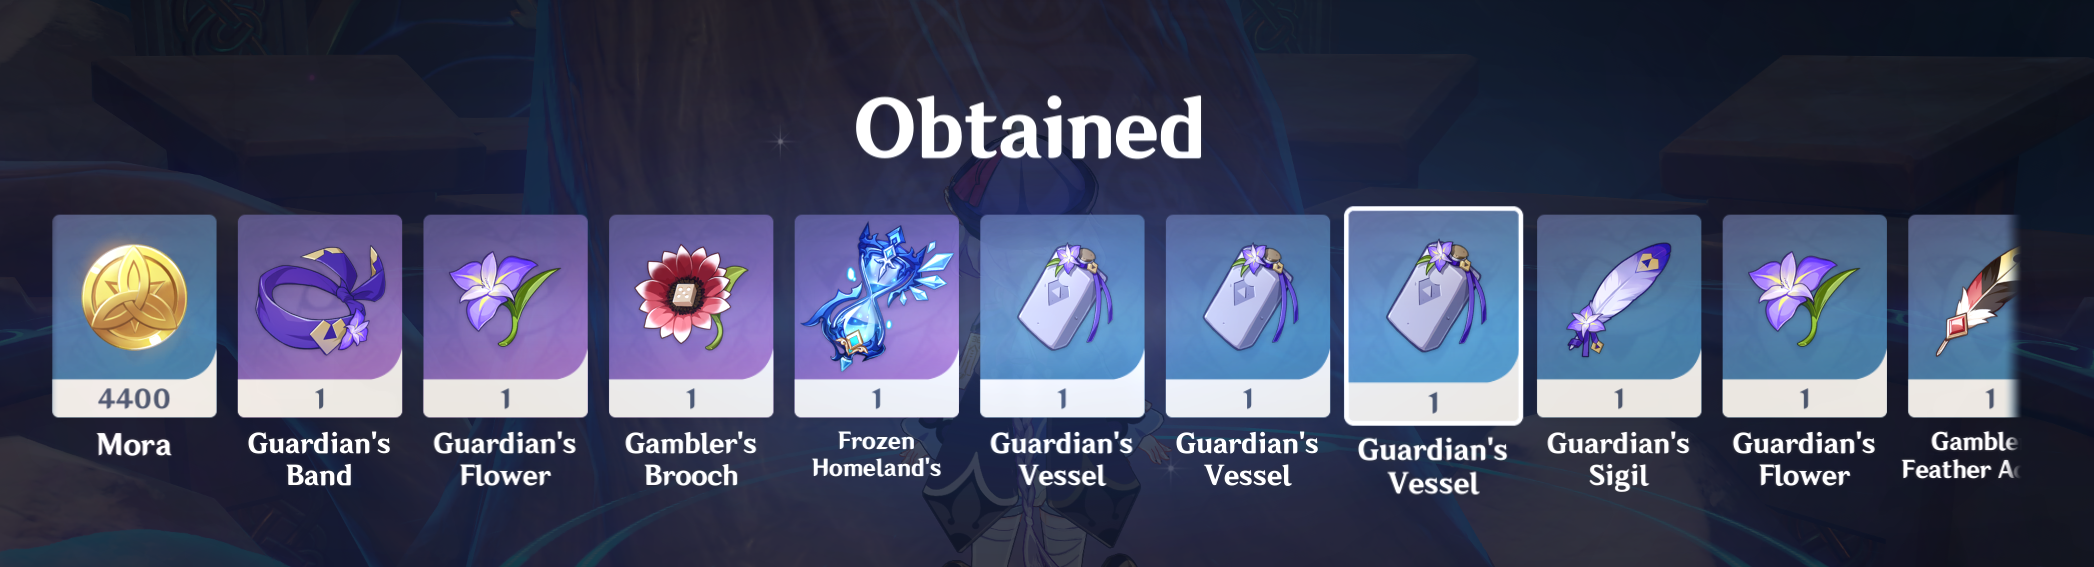3 star artifact: (1341, 199, 1529, 431), (1159, 207, 1345, 430), (971, 203, 1155, 427), (1529, 209, 1707, 427), (1715, 209, 1892, 426)
4 star artifact: (413, 207, 608, 427), (231, 205, 411, 430), (785, 205, 967, 427), (601, 207, 779, 426)
